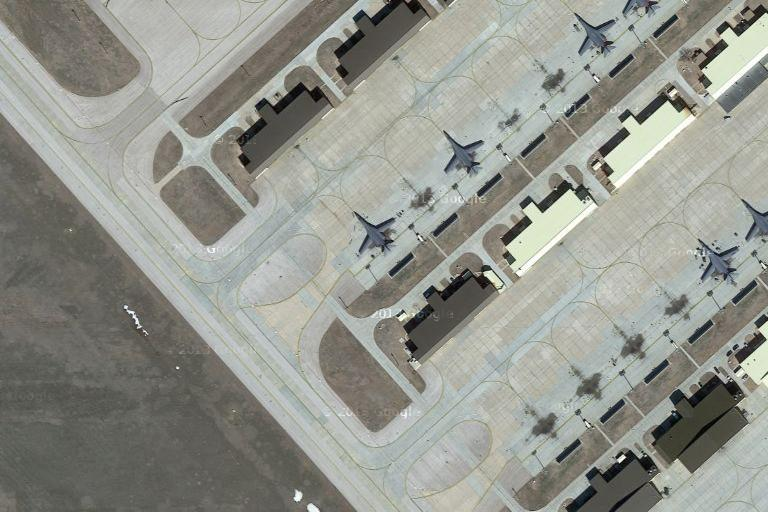B-1B: (695, 237, 744, 286), (439, 129, 487, 178), (351, 209, 398, 257), (572, 11, 617, 59)
